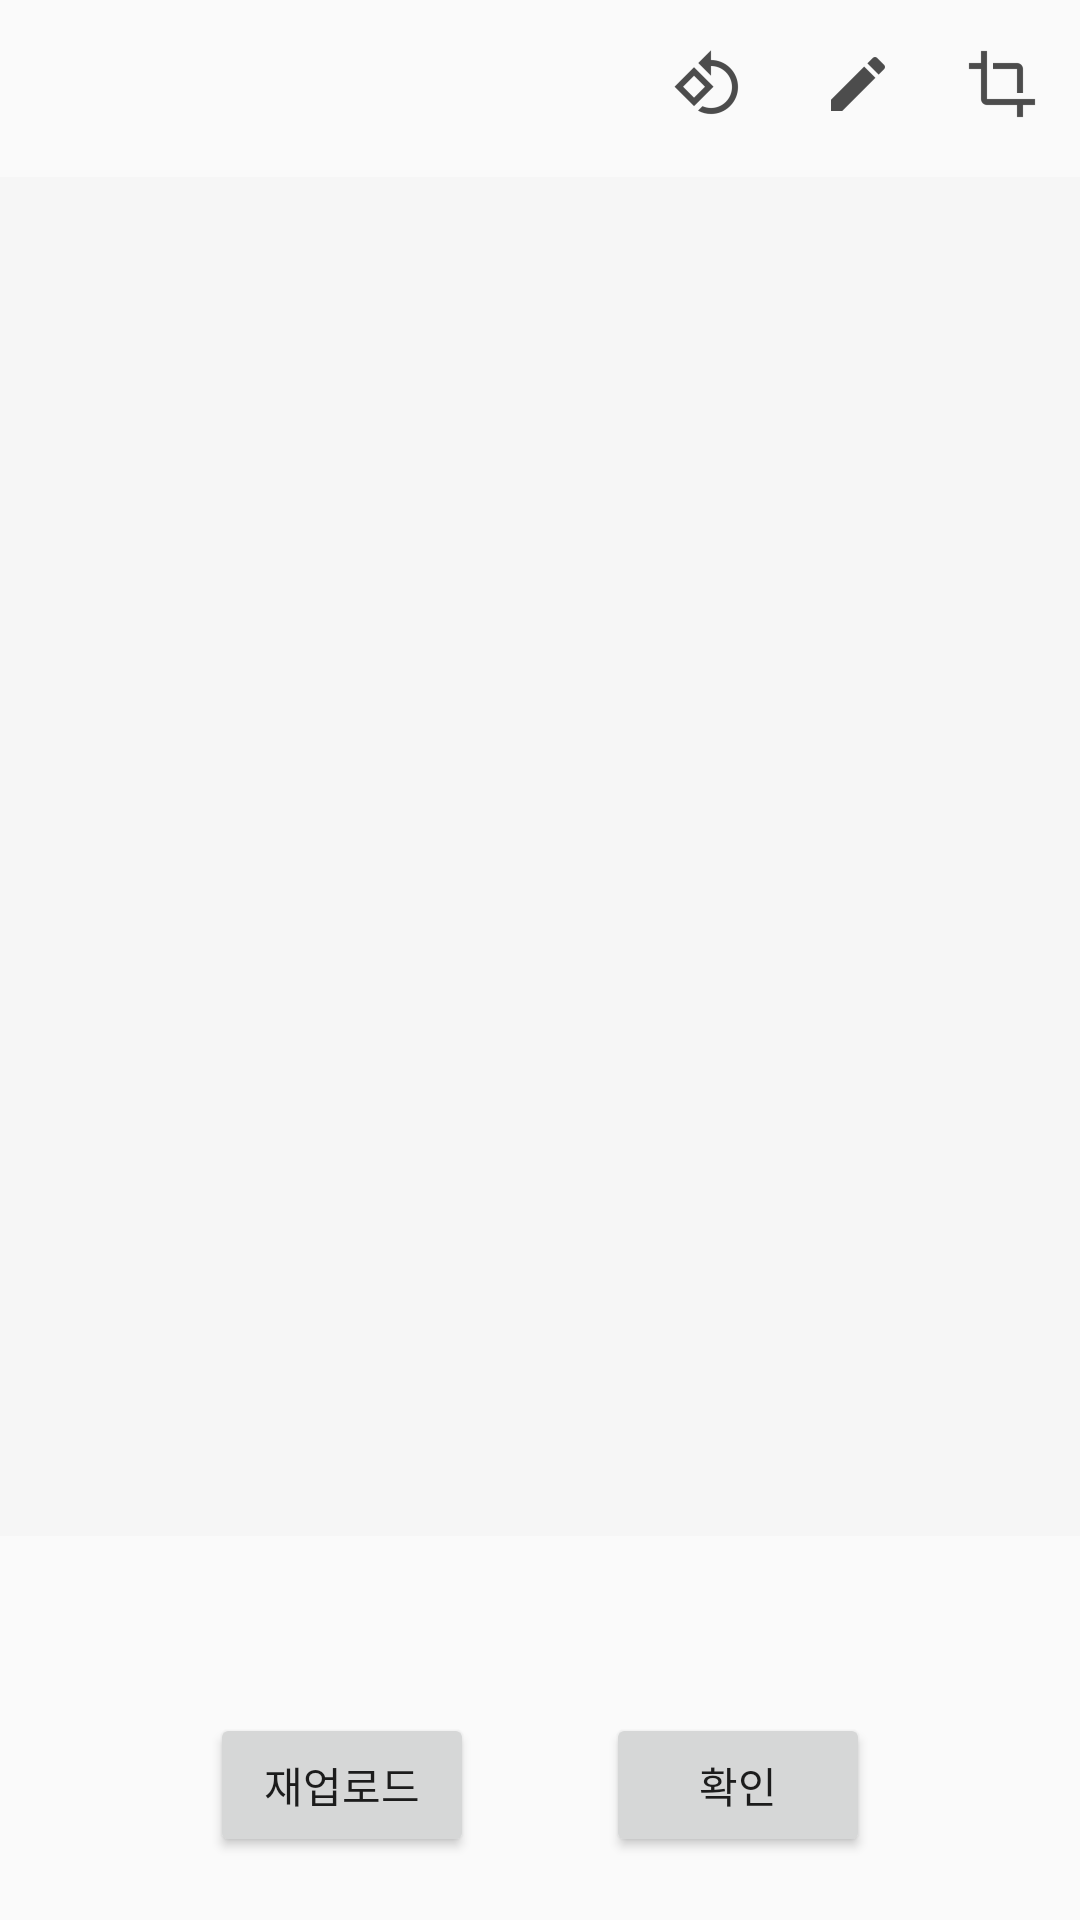

Screen size 1080*1920. Icon name, then its box in pixels as (x1, y1, x2, y2):
crop: (969, 51, 1035, 117)
retouch: (831, 57, 885, 111)
rotate: (674, 50, 738, 114)
